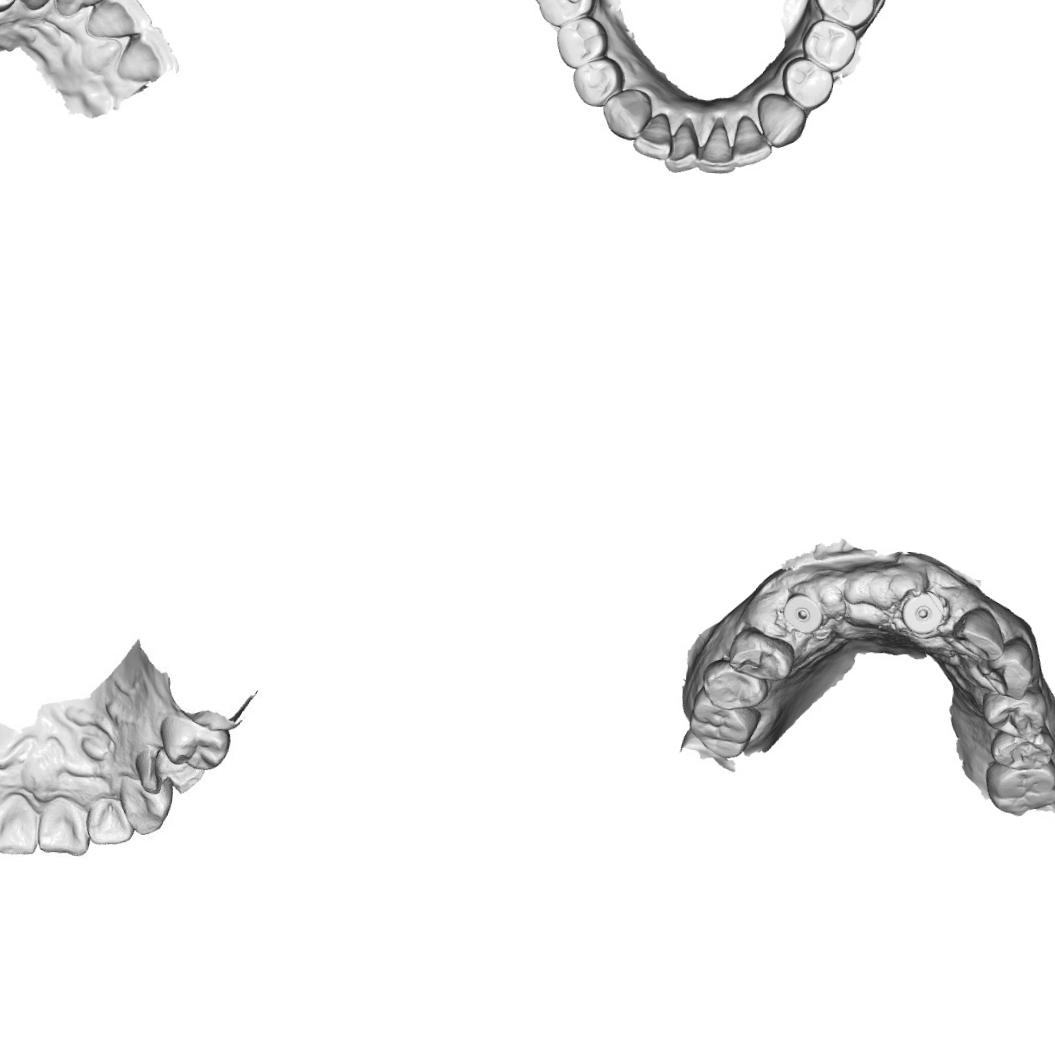canine: (978, 634, 1042, 702), (116, 775, 175, 837), (752, 90, 810, 151), (598, 84, 656, 142), (11, 0, 70, 23)
implant: (896, 588, 946, 636), (778, 591, 826, 637)
incisor: (114, 20, 174, 86), (948, 602, 1009, 664), (32, 803, 90, 858), (83, 0, 151, 42), (696, 115, 742, 177), (82, 797, 137, 848), (661, 118, 708, 176), (730, 112, 775, 172), (629, 107, 677, 163), (0, 799, 41, 859), (53, 0, 112, 28)
molar: (682, 690, 759, 762), (979, 757, 1055, 821), (806, 0, 887, 31), (526, 0, 600, 30)
premolar: (724, 622, 797, 684), (134, 740, 212, 798), (974, 686, 1048, 744), (700, 656, 771, 713), (158, 716, 227, 772), (776, 52, 837, 114), (552, 12, 613, 72), (798, 16, 859, 75), (568, 52, 628, 110), (987, 724, 1055, 773)
